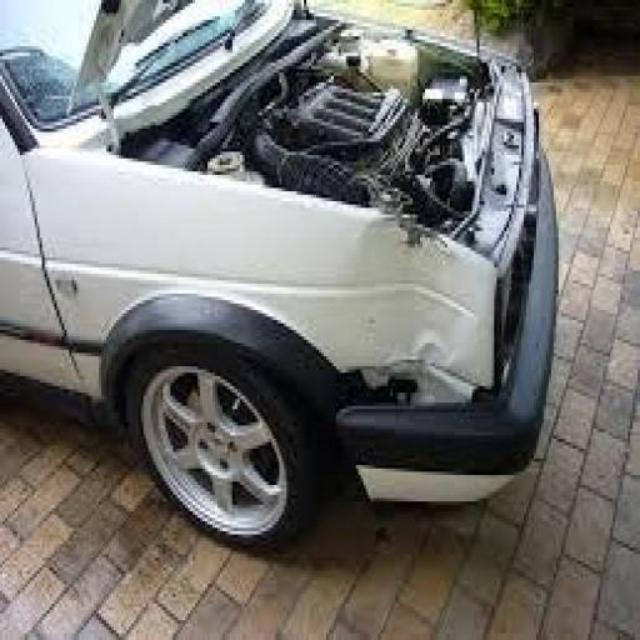dent: (343, 219, 501, 414)
